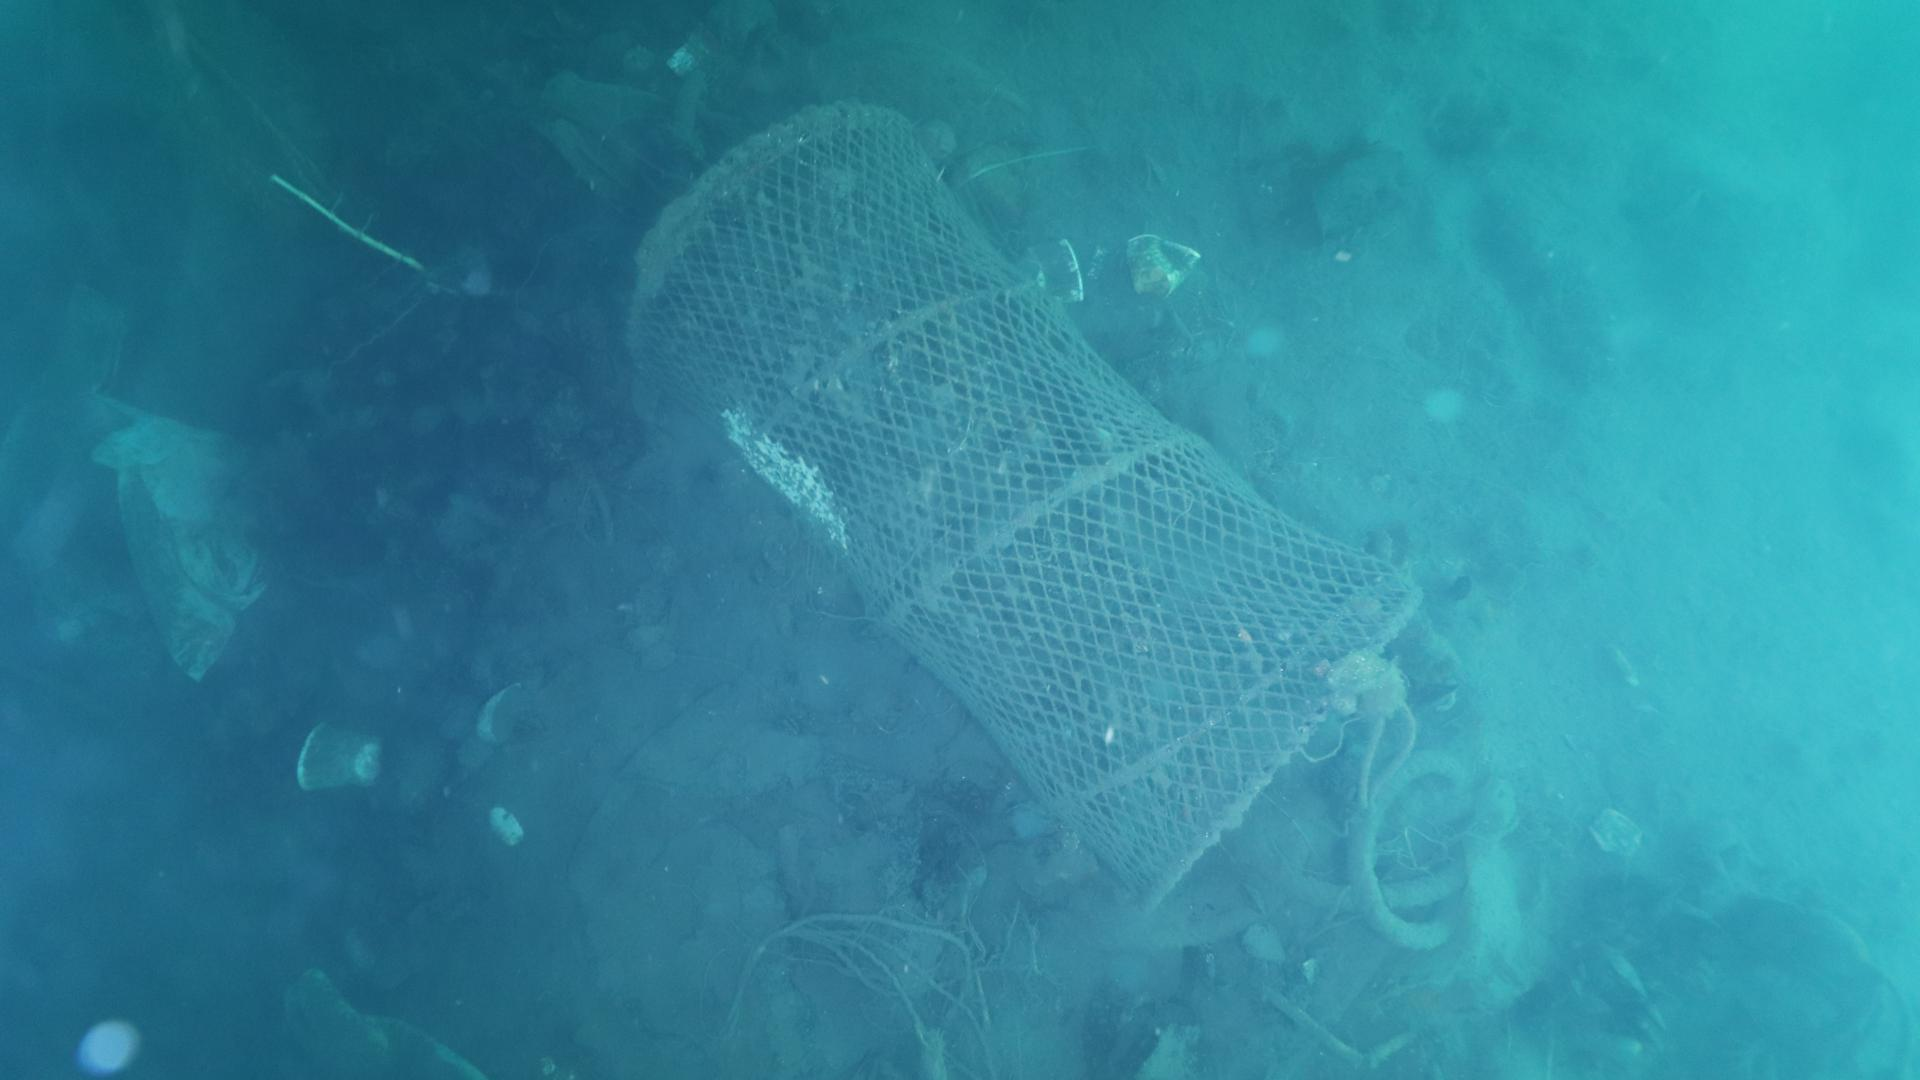spring fish trap: (622, 102, 1418, 909)
